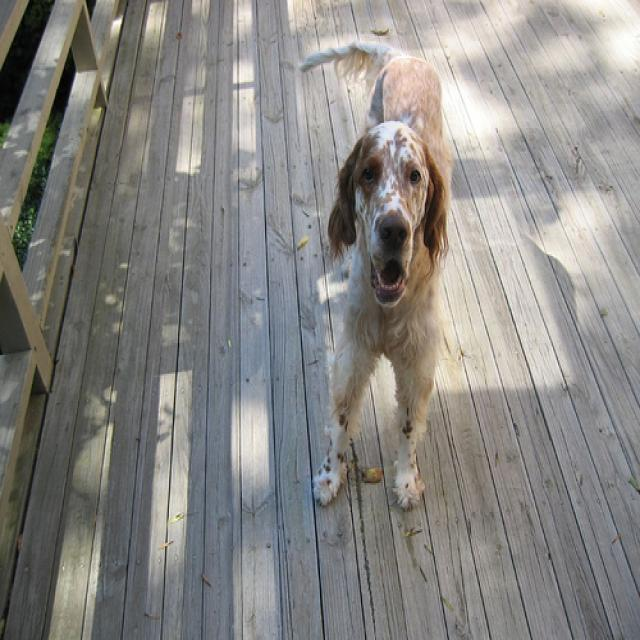dog: (328, 118, 444, 305)
